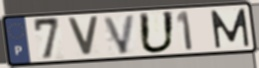1: (176, 10, 196, 52)
7: (32, 16, 63, 62)
M: (209, 7, 252, 50)
U: (137, 10, 177, 55)
V: (102, 13, 138, 56), (65, 16, 101, 58)
